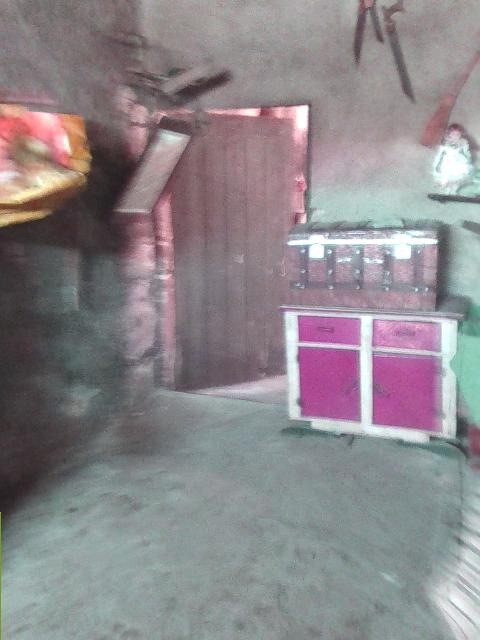semi_door: (153, 101, 311, 405)
